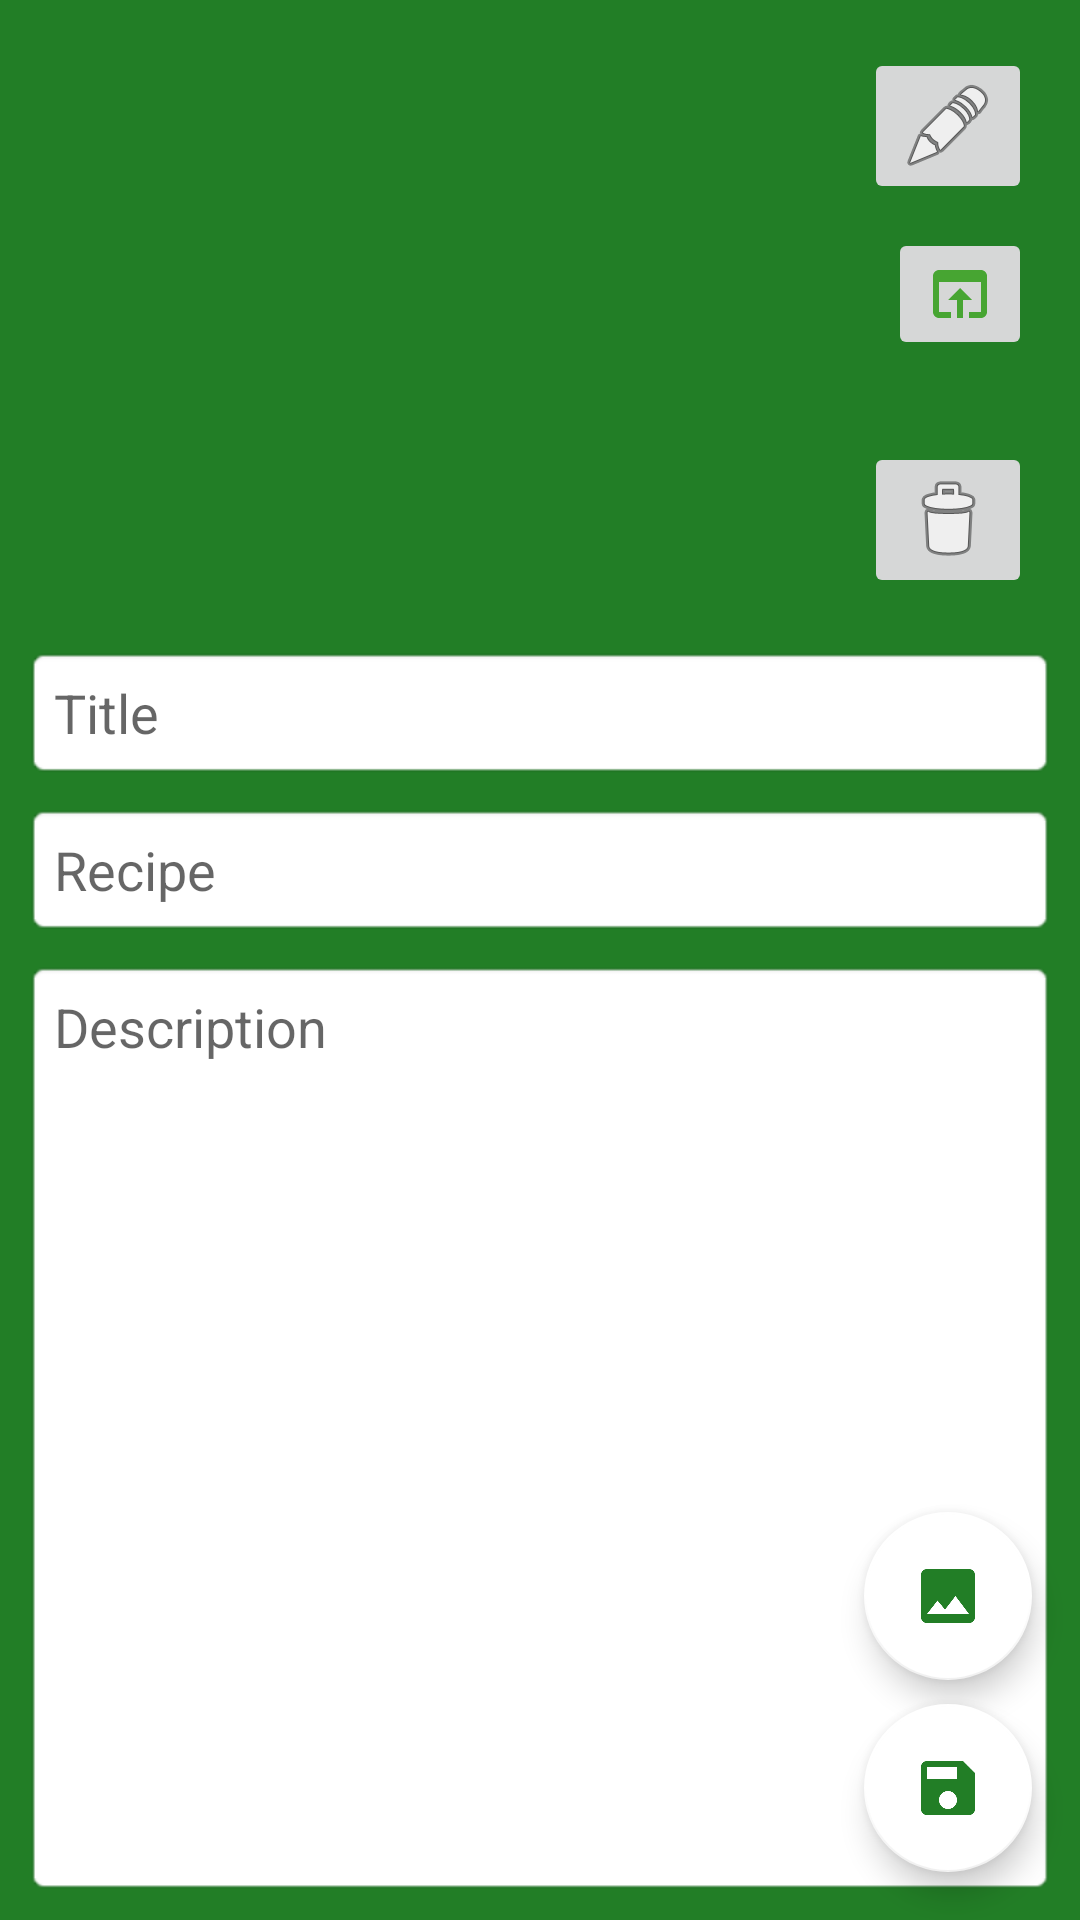

Icon click points for this 1080px×1920px phone screenshot, format (x,y):
delete: (948,520)
edit: (948,126)
save: (923,1794)
